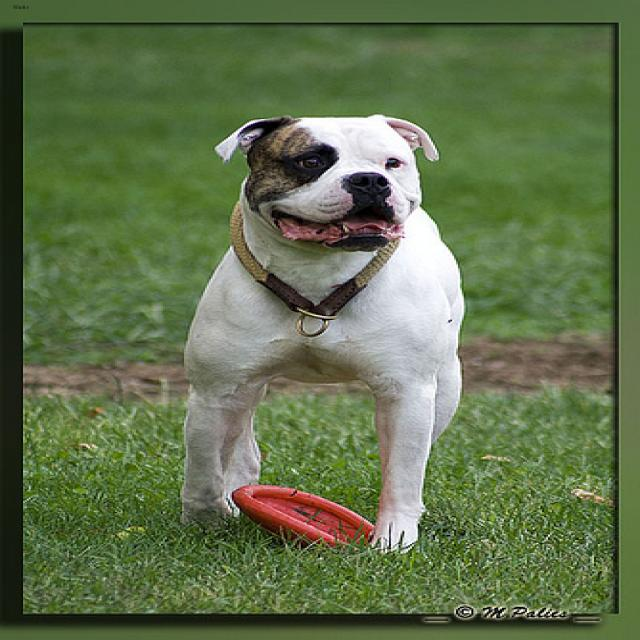dog-american_bulldog: (161, 102, 487, 557)
